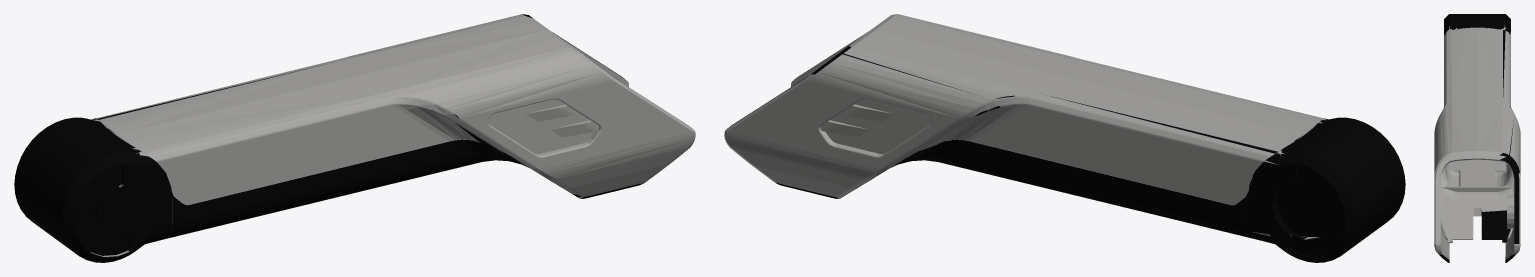
Rendered from left_arm_link2.usd.sapien.glb.
The picture shows the model from 3 angles, left to right: view 1: azimuth 30°, elevation 25°; view 2: azimuth 150°, elevation 25°; view 3: azimuth 270°, elevation 25°; orthographic projection. The views are drawn at different scales.
Visible parts, largest first — view 1: left_arm_link2; view 2: left_arm_link2; view 3: left_arm_link2.
Boxes of the visible parts, bbox=[...] form: left_arm_link2: bbox=[14, 14, 695, 262]; left_arm_link2: bbox=[724, 14, 1405, 262]; left_arm_link2: bbox=[1434, 14, 1520, 262].
Size of the model in its own units: 0.4319 by 0.1057 by 0.088.
1 material, 1 textured.
